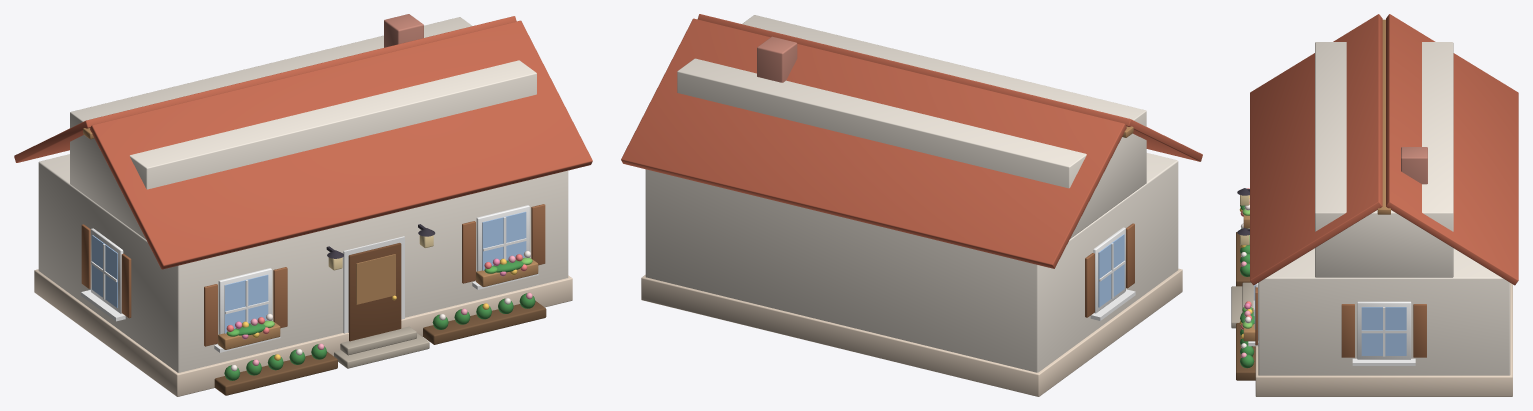
File: cottage.glb
3 views of the same model, side by side, from view 1: azimuth 30°, elevation 25°; view 2: azimuth 150°, elevation 25°; view 3: azimuth 270°, elevation 25° (orthographic). The views are drawn at different scales.
Parts seen in each view (by area): view 1: cottage; view 2: cottage; view 3: cottage.
Part boxes in pixels (box(x1,y1,x2,y2)): cottage: box(14, 14, 592, 396); cottage: box(621, 14, 1202, 396); cottage: box(1231, 14, 1518, 396).
Bounding box in the file's own units: 10 × 5.15 × 6.39.
